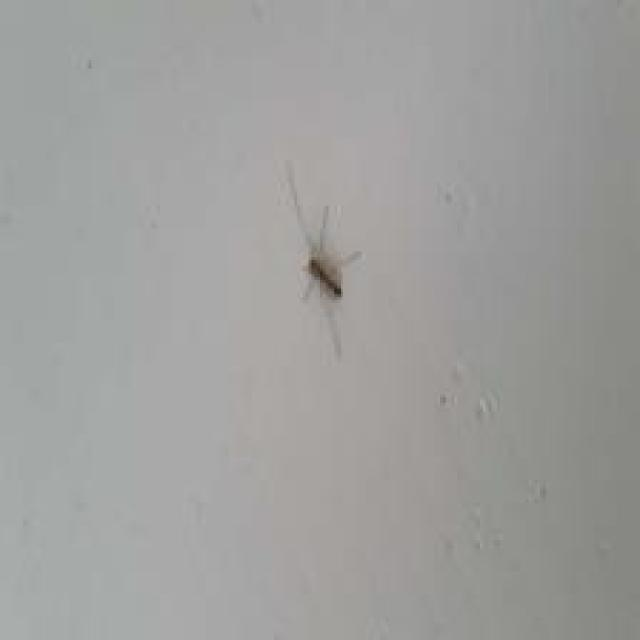Culex: (282, 158, 364, 358)
